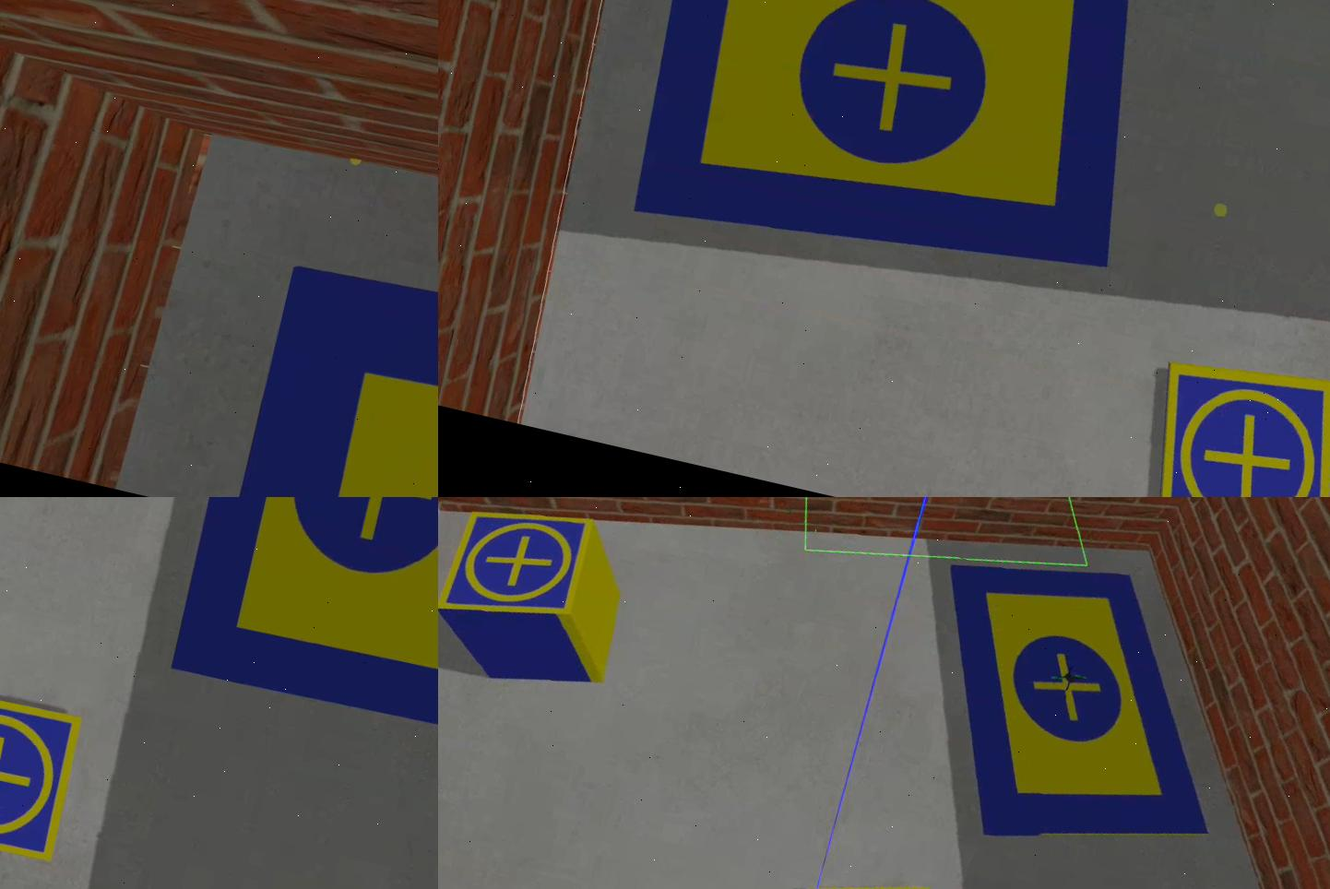large_base: (616, 1, 1183, 326), (892, 531, 1265, 887), (170, 498, 439, 738), (235, 234, 439, 498)
small_base: (1128, 348, 1330, 498), (439, 498, 595, 640), (1, 682, 88, 870)
